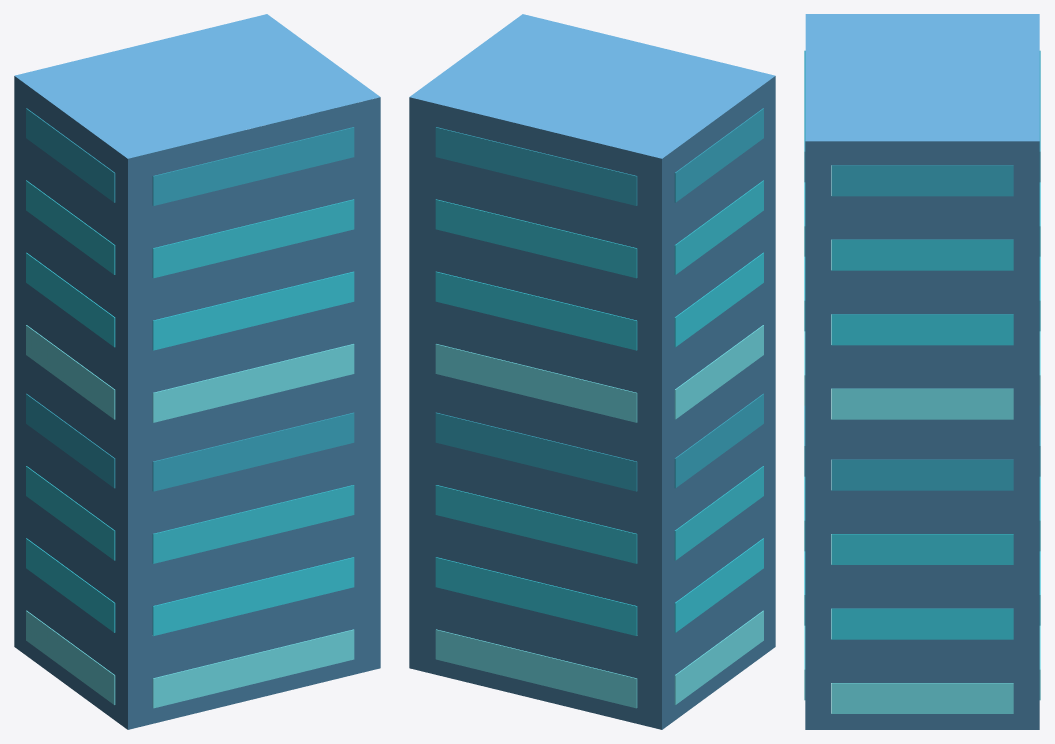
3 renders of one model, left to right at view 1: azimuth 30°, elevation 25°; view 2: azimuth 150°, elevation 25°; view 3: azimuth 270°, elevation 25°, orthographic. The views are drawn at different scales.
Visible parts, largest first — view 1: Box42, Box01, Box43, Box41, Box30, Box38, Box39, Box40, Box29, Box02; view 2: Box42, Box01, Box43, Box29, Box39, Box41, Box30, Box02, Box38, Box40; view 3: Box42, Box01, Box43, Box30, Box39, Box40, Box41, Box02, Box29, Box38.
Boxes of the visible parts, x1=… form: Box42: x1=14, y1=14, x2=380, y2=444; Box01: x1=14, y1=361, x2=380, y2=729; Box43: x1=26, y1=108, x2=354, y2=205; Box41: x1=26, y1=325, x2=354, y2=422; Box30: x1=26, y1=538, x2=354, y2=635; Box38: x1=26, y1=610, x2=354, y2=708; Box39: x1=26, y1=180, x2=354, y2=278; Box40: x1=26, y1=252, x2=354, y2=350; Box29: x1=26, y1=466, x2=354, y2=563; Box02: x1=26, y1=393, x2=354, y2=491; Box42: x1=409, y1=14, x2=775, y2=444; Box01: x1=409, y1=361, x2=775, y2=729; Box43: x1=435, y1=108, x2=763, y2=205; Box29: x1=435, y1=466, x2=763, y2=563; Box39: x1=435, y1=180, x2=763, y2=278; Box41: x1=435, y1=325, x2=763, y2=422; Box30: x1=435, y1=538, x2=763, y2=635; Box02: x1=435, y1=393, x2=763, y2=491; Box38: x1=435, y1=610, x2=763, y2=708; Box40: x1=435, y1=252, x2=763, y2=350; Box42: x1=805, y1=14, x2=1039, y2=435; Box01: x1=805, y1=435, x2=1039, y2=729; Box43: x1=804, y1=50, x2=1040, y2=196; Box30: x1=804, y1=551, x2=1040, y2=639; Box39: x1=804, y1=182, x2=1040, y2=270; Box40: x1=804, y1=256, x2=1040, y2=345; Box41: x1=804, y1=331, x2=1040, y2=419; Box02: x1=804, y1=405, x2=1040, y2=490; Box29: x1=804, y1=476, x2=1040, y2=564; Box38: x1=804, y1=625, x2=1040, y2=713.
Size of the model in its own units: 20.19 by 43.3 by 15.77.
